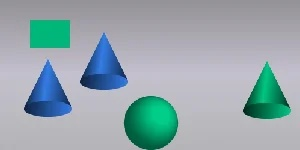圆锥体: (240, 59, 294, 121), (24, 58, 73, 119), (80, 32, 129, 90)
球体: (122, 95, 180, 150)
矩形: (28, 18, 72, 50)
